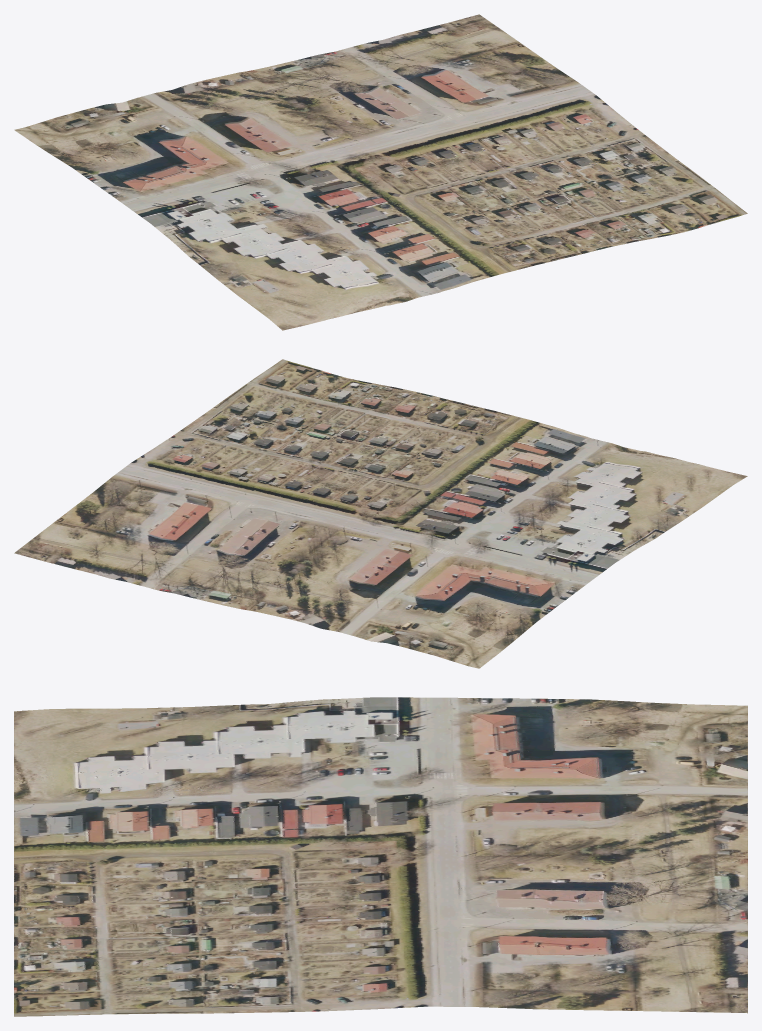
Rendered from CM_Terrain_24489639_6818565.fbx.
3 views of the same model, one above another, from view 1: azimuth 30°, elevation 25°; view 2: azimuth 150°, elevation 25°; view 3: azimuth 270°, elevation 25° (orthographic). The views are drawn at different scales.
Parts seen in each view (by area): view 1: CM_Terrain_24489639_6818565_LOD0; view 2: CM_Terrain_24489639_6818565_LOD0; view 3: CM_Terrain_24489639_6818565_LOD0.
Boxes of the visible parts, left/top/right/bottom form: CM_Terrain_24489639_6818565_LOD0: left=14, top=14, right=747, bottom=330; CM_Terrain_24489639_6818565_LOD0: left=14, top=359, right=747, bottom=668; CM_Terrain_24489639_6818565_LOD0: left=14, top=697, right=747, bottom=1016.
Size of what is drawn, in the model's own units: 205 by 5.3 by 205.
